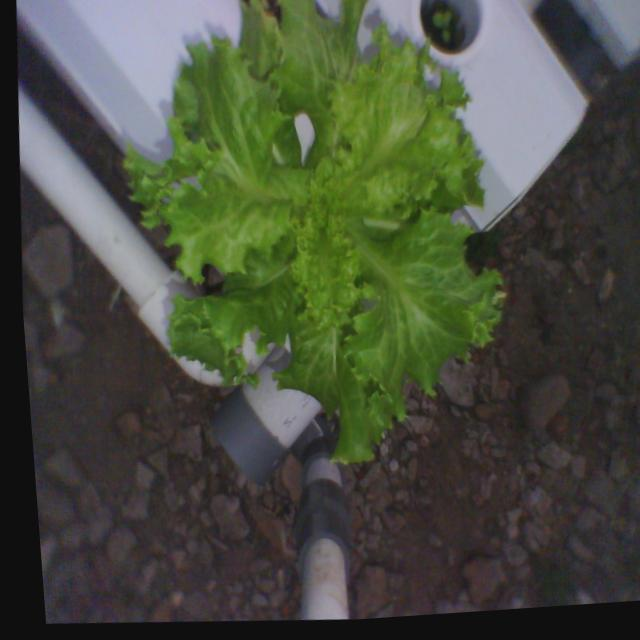FN: (80, 0, 548, 505)
